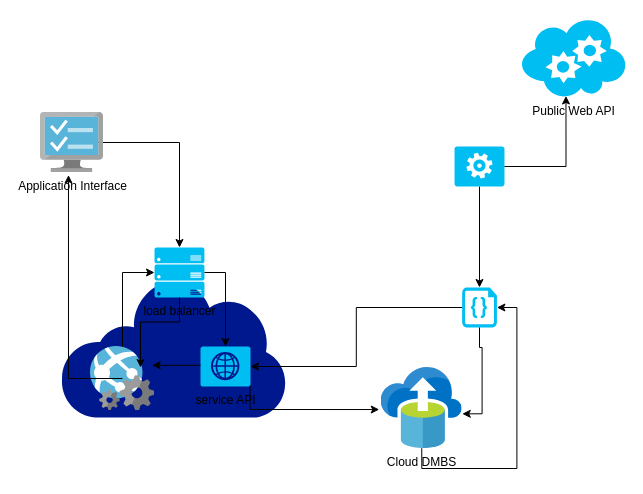
The diagram is 643 pixels wide and 494 high, and some of its shapes have lost their labels. Each missing label, with the centre of its shape:
"JS Function" belongs at [122,378].
"JSON" belongs at [479,307].
"Web Crawler" belongs at [479,166].
